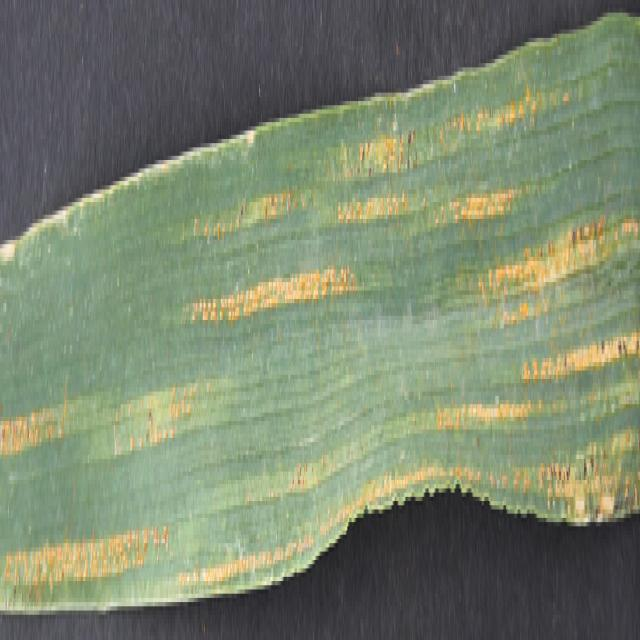leaf rust: (427, 72, 639, 522), (187, 126, 421, 350), (1, 370, 238, 572), (238, 367, 423, 586)
